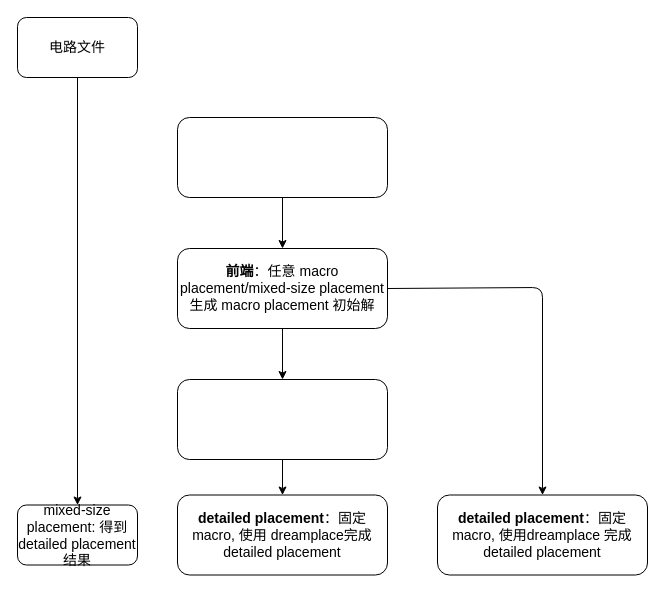
Some shapes in this 665 by 593 pixel diagram are drawn without their labels. Each missing label, with the centre of its shape:
refine ：根据mixedmask对macro placement初始解进行调优: the point at 282,419
预处理 ：生成只包含 macro 和 port 的电路文件，并将 port 固定: the point at 282,157
